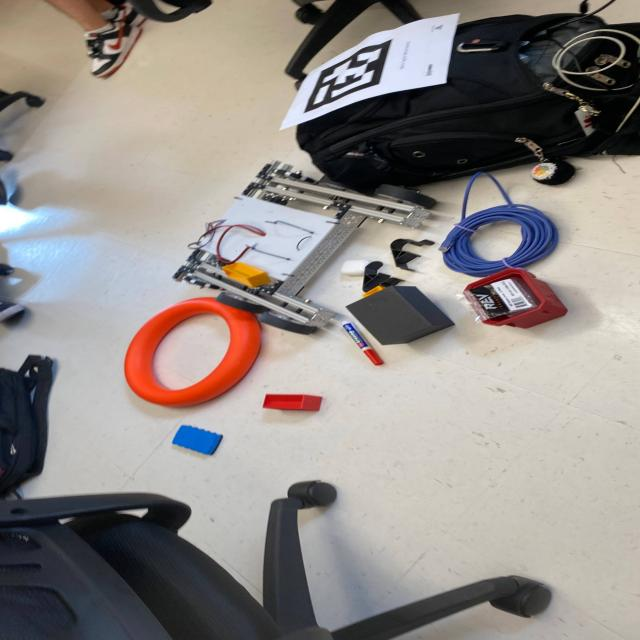red-specimen: (262, 394, 322, 411)
yellow-specimen: (222, 262, 270, 288), (363, 285, 386, 298)
